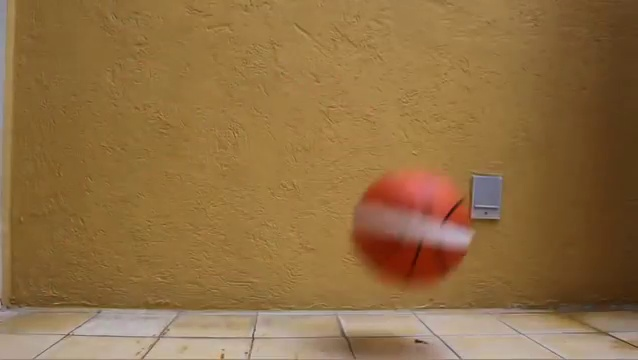ball: (353, 169, 474, 287)
